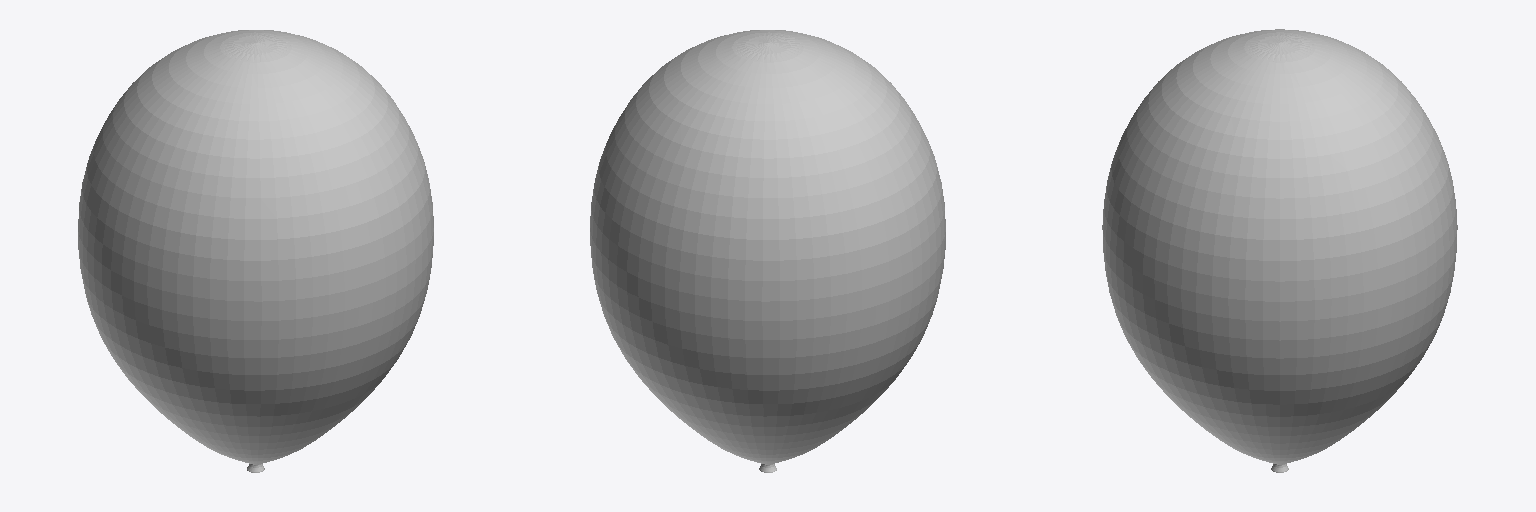
The model's file is Globo6.obj.
3 views of the same model, side by side, from view 1: azimuth 30°, elevation 25°; view 2: azimuth 150°, elevation 25°; view 3: azimuth 270°, elevation 25° (orthographic).
Parts seen in each view (by area): view 1: Sphere.013; view 2: Sphere.013; view 3: Sphere.013.
Part boxes in pixels (x1,y1,x2,y2): Sphere.013: (78, 30, 433, 472); Sphere.013: (590, 30, 945, 472); Sphere.013: (1102, 29, 1457, 472).
Bounding box in the file's own units: 0.5211 × 0.688 × 0.519.